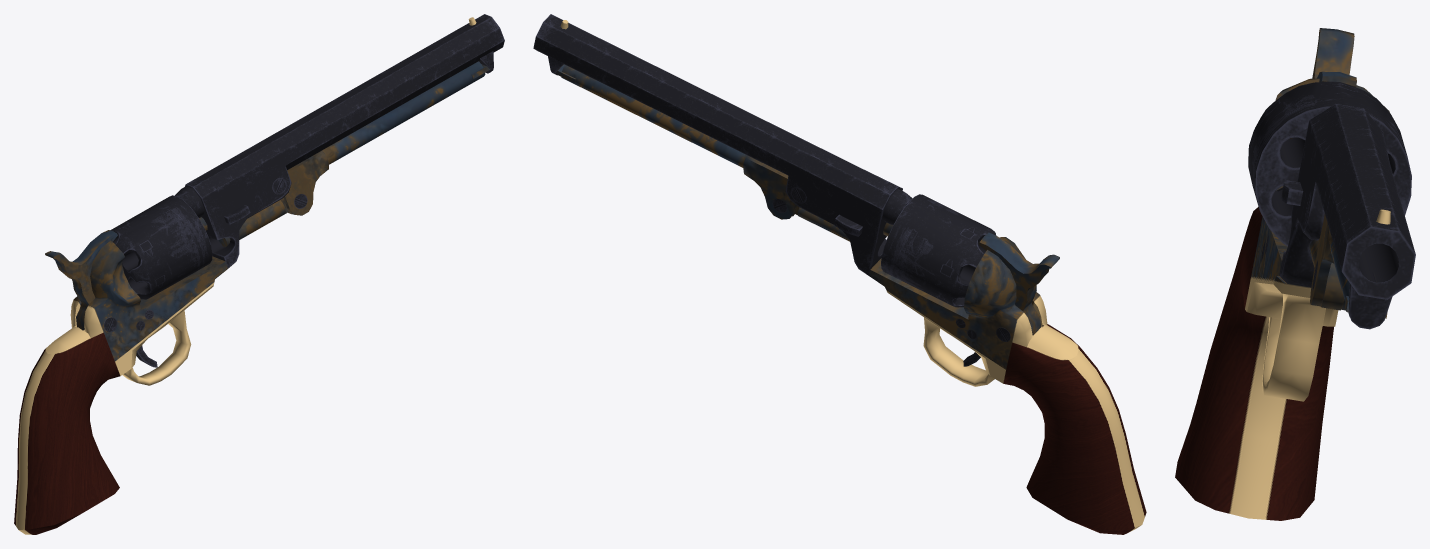
Rendered from revolver.glb.
3 views of the same model, side by side, from view 1: azimuth 30°, elevation 25°; view 2: azimuth 150°, elevation 25°; view 3: azimuth 270°, elevation 25° (orthographic). The views are drawn at different scales.
Visible parts, largest first — view 1: base_low, barrel_low, part_2_low, trigger_1_low, part_1_low; view 2: base_low, barrel_low, part_2_low, trigger_1_low; view 3: base_low, barrel_low, trigger_1_low, part_2_low, nose_part_low, part_1_low, part_3_low.
Boxes of the visible parts, left/top/right/bottom form: base_low: left=14, top=14, right=504, bottom=534; barrel_low: left=110, top=195, right=212, bottom=299; part_2_low: left=283, top=61, right=489, bottom=215; trigger_1_low: left=45, top=230, right=117, bottom=330; part_1_low: left=218, top=198, right=292, bottom=247; base_low: left=533, top=14, right=1146, bottom=534; barrel_low: left=881, top=194, right=996, bottom=307; part_2_low: left=555, top=64, right=796, bottom=219; trigger_1_low: left=979, top=232, right=1059, bottom=335; base_low: left=1175, top=78, right=1415, bottom=520; barrel_low: left=1248, top=81, right=1411, bottom=251; trigger_1_low: left=1312, top=28, right=1356, bottom=87; part_2_low: left=1310, top=214, right=1387, bottom=318; nose_part_low: left=1348, top=283, right=1392, bottom=329; part_1_low: left=1309, top=240, right=1343, bottom=310; part_3_low: left=1281, top=180, right=1303, bottom=205.
Size of the model in its own units: 2.9 by 2.01 by 0.5884.
Materials: 1 (1 with a texture image).
